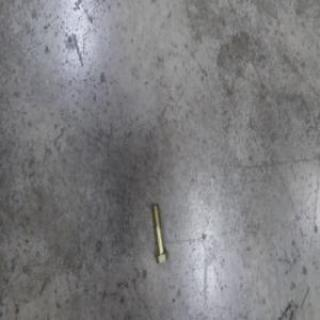Bolttrack_idkeyframe: (150, 203, 168, 264)
